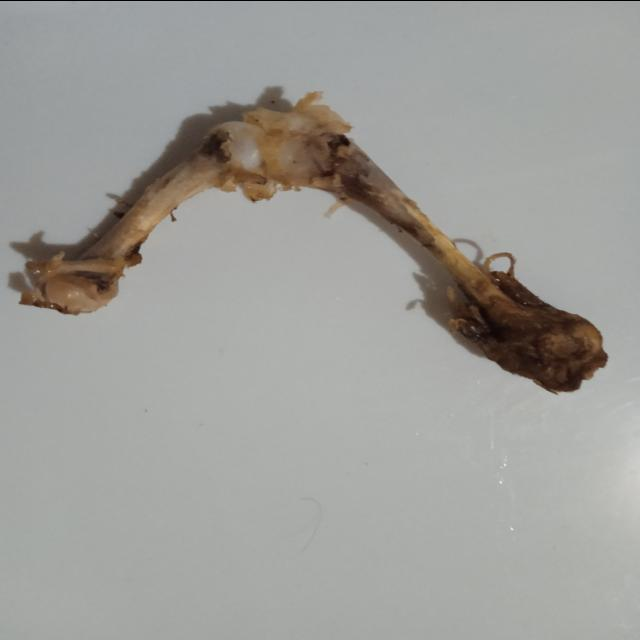bone: (0, 83, 627, 401)
